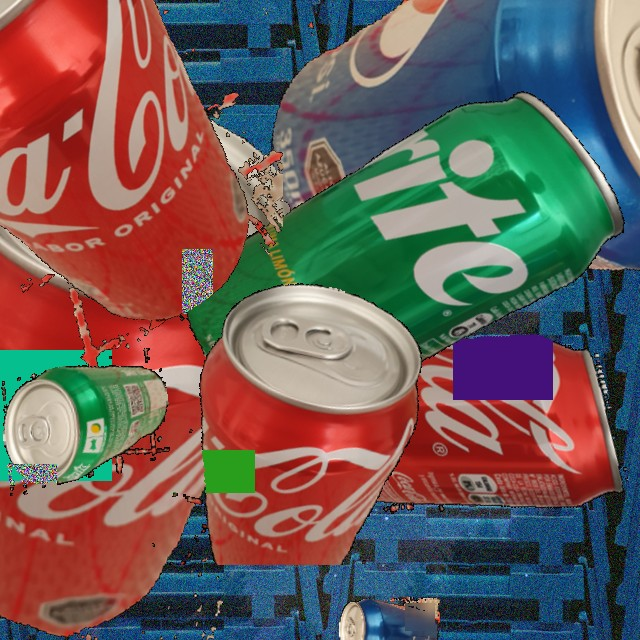coca cola: (0, 52, 336, 640), (232, 243, 628, 605), (0, 0, 283, 385), (145, 277, 446, 565)
pepsi: (231, 0, 640, 317), (339, 596, 440, 640)
sprite: (134, 0, 640, 526), (0, 338, 177, 502)
